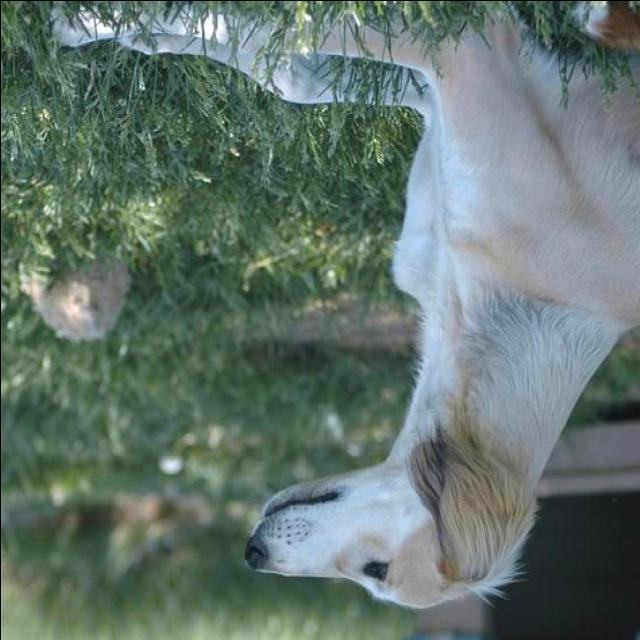saluki: (46, 6, 638, 616)
